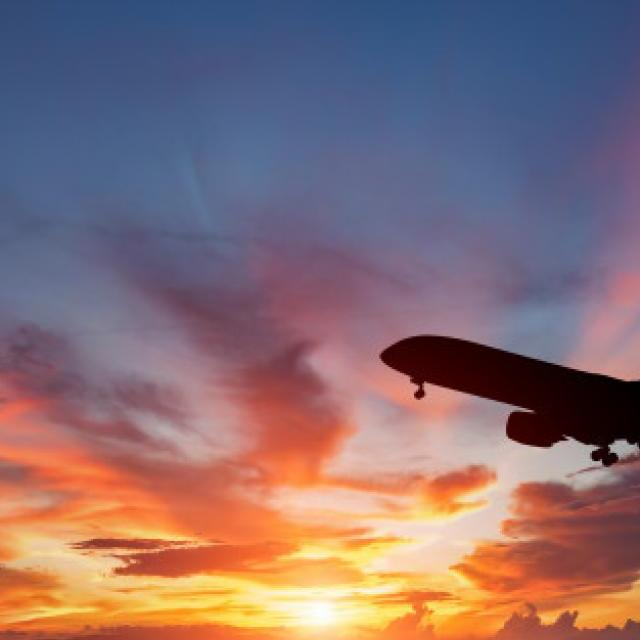airplane: (368, 321, 640, 480)
